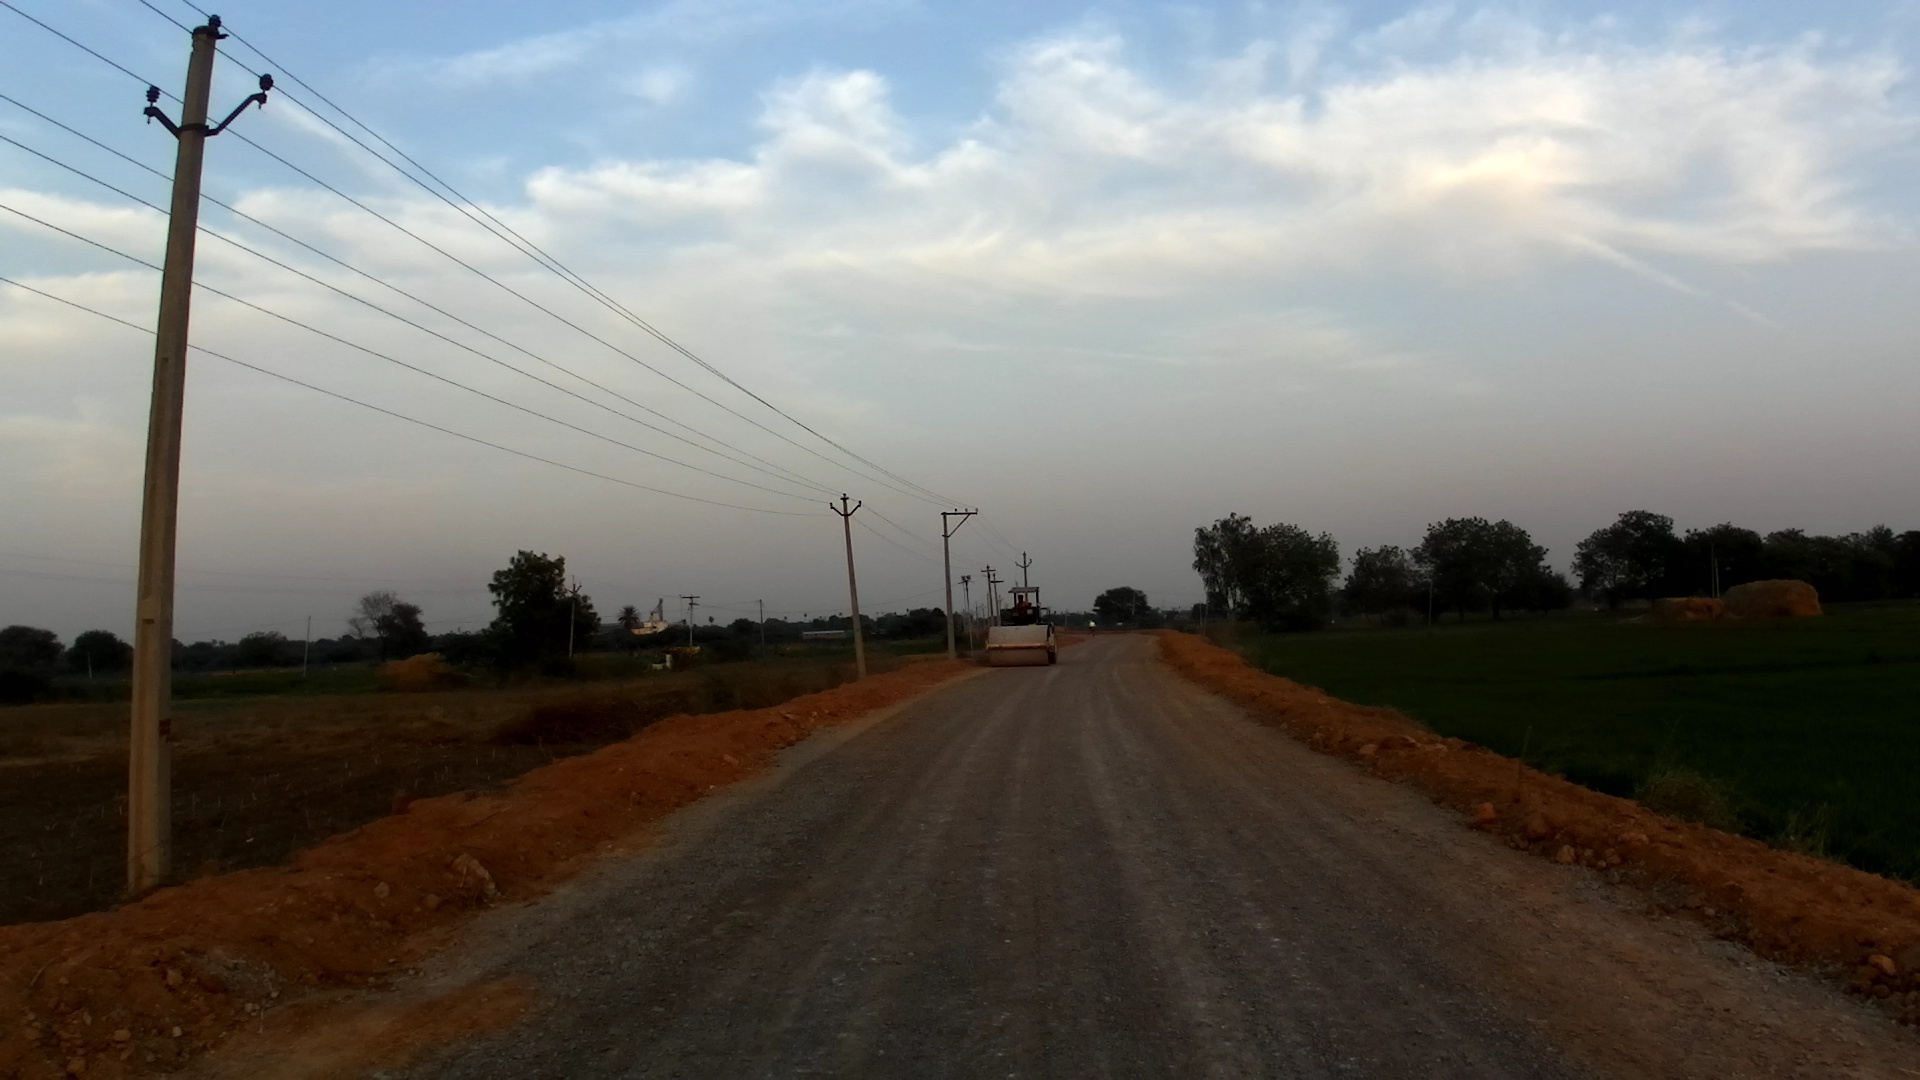rider: (1007, 593, 1034, 626)
vehicle fallback: (983, 583, 1054, 668), (1086, 617, 1101, 636)
